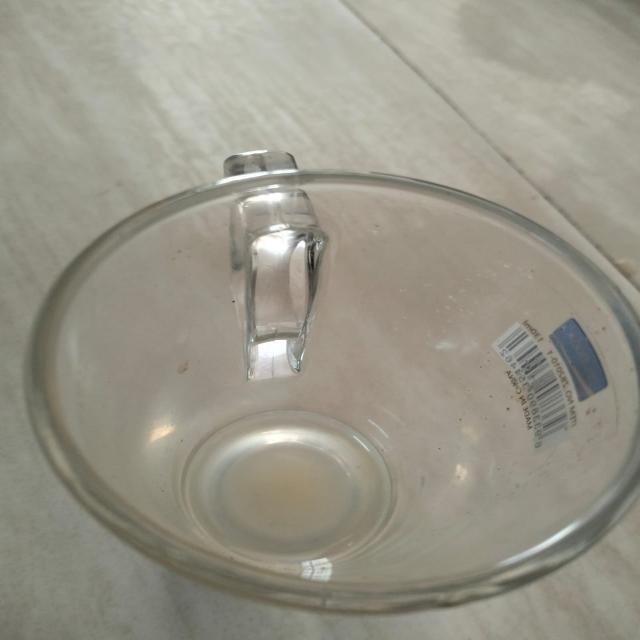glass-VX4N: (18, 146, 640, 623)
